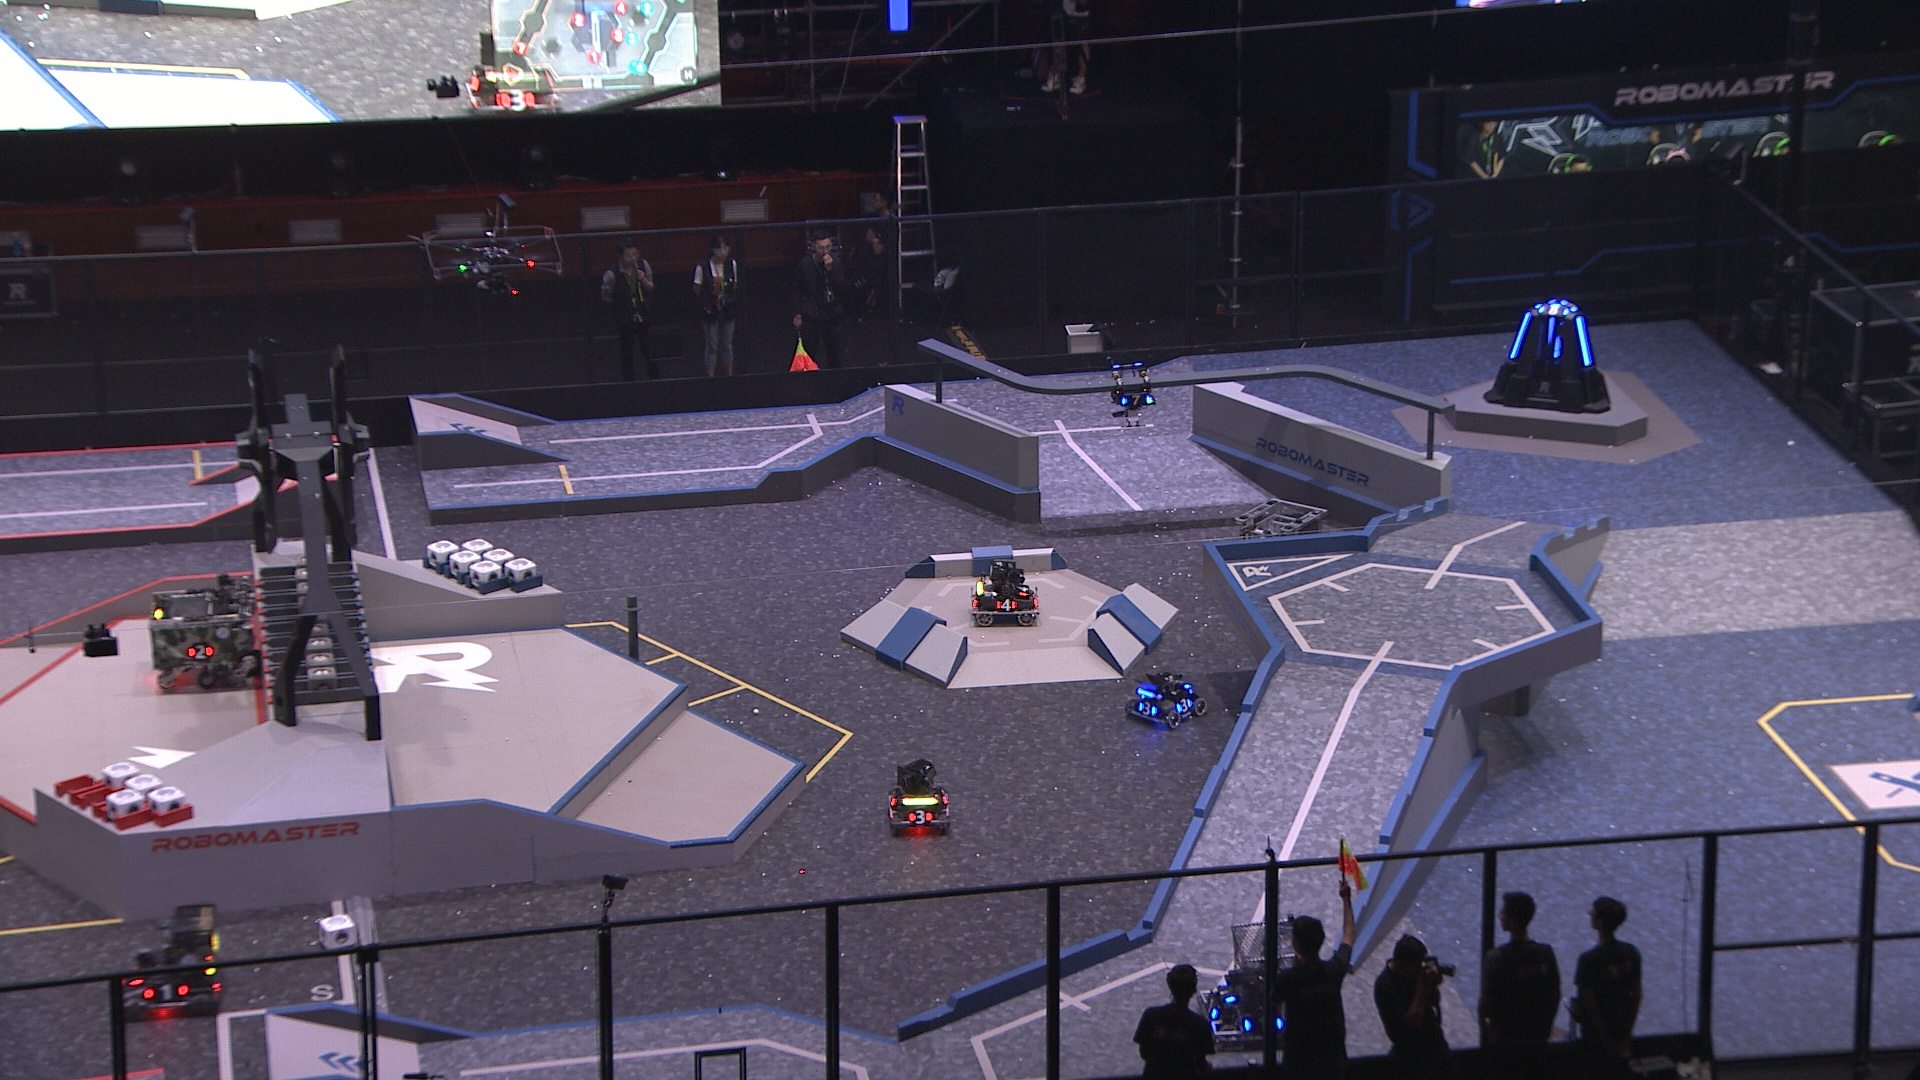armor: (1505, 309, 1534, 360), (140, 981, 191, 1005), (1575, 314, 1596, 371), (1117, 392, 1154, 409), (906, 806, 934, 825), (1538, 302, 1567, 319), (186, 644, 215, 661), (1218, 981, 1238, 1006), (1543, 314, 1557, 345), (1135, 700, 1162, 717), (1205, 993, 1221, 1021), (993, 595, 1017, 613), (1174, 695, 1195, 713), (1563, 295, 1580, 316), (1015, 580, 1033, 599), (887, 787, 898, 808)
base: (1482, 294, 1611, 415)
car: (1193, 911, 1311, 1052), (1230, 498, 1335, 636), (112, 901, 229, 1022), (146, 568, 255, 698), (967, 553, 1040, 629), (882, 756, 953, 835), (1121, 666, 1211, 728)
ignore: (462, 26, 567, 112)
watcher: (1105, 353, 1155, 429)
